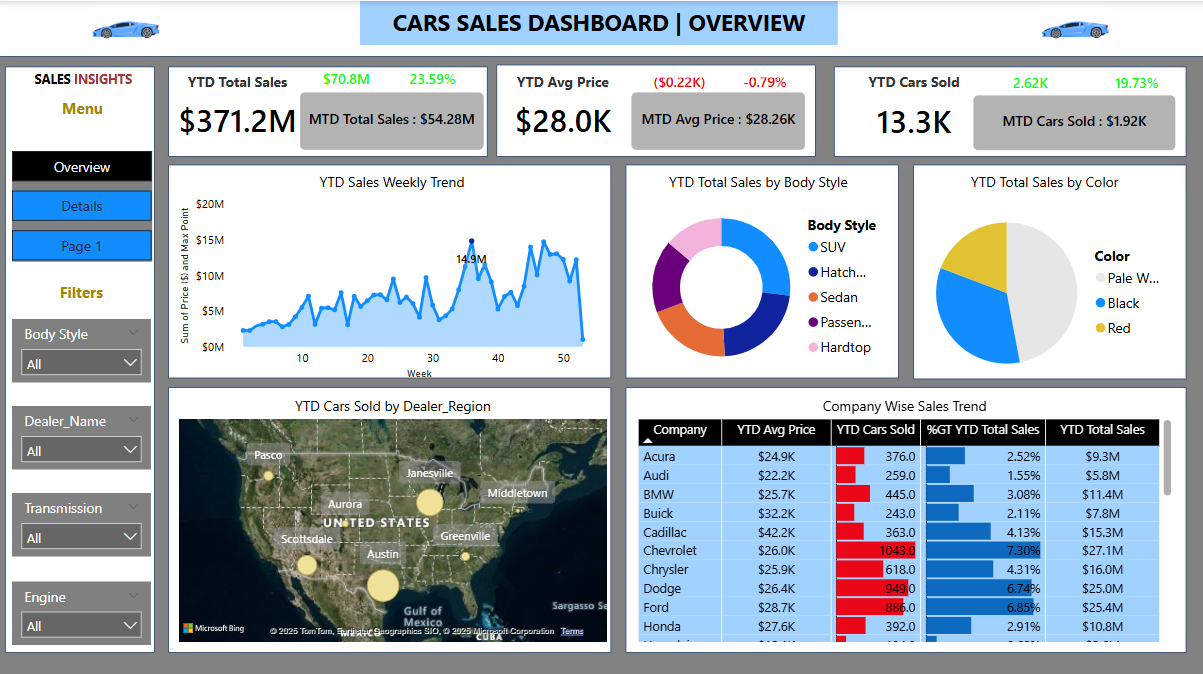

The dashboard page shown, as its layout file describes it:
{"tool":"powerbi","page":{"name":"Overview","canvas":[1280,720],"ordinal":0},"visuals":[{"type":"card","title":"YTD Total Sales","fields":{"Values":["car_data.YTD Total Sales"]},"box":[174.2,74.9,160,83],"z":0},{"type":"card","fields":{"Values":["car_data.Sales Difference"]},"box":[322,68.9,97.2,32.4],"z":1000},{"type":"card","fields":{"Values":["car_data.YOY Sales Growth"]},"box":[419.2,68.9,83,32.4],"z":2000},{"type":"card","fields":{"Values":["car_data.MTD KPI"]},"box":[322,97.2,194.4,60.8],"z":3000},{"type":"card","title":"YTD Avg Price","fields":{"Values":["car_data.YTD Avg Price"]},"box":[528.6,74.9,143.8,83],"z":4000},{"type":"card","fields":{"Values":["car_data.Avg Price Difference"]},"box":[680.5,72.9,85.1,24.3],"z":5000},{"type":"card","fields":{"Values":["car_data.YOY Avg Price Growth"]},"box":[771.6,72.9,85.1,24.3],"z":6000},{"type":"card","fields":{"Values":["car_data.MTD Avg Price KPI"]},"box":[672.4,97.2,184.3,60.8],"z":7000},{"type":"card","title":"YTD Cars Sold","fields":{"Values":["car_data.YTD Cars Sold"]},"box":[892,74,160,84],"z":8000},{"type":"card","fields":{"Values":["car_data.Cars Sold Difference"]},"box":[1052.7,74.5,84.5,25.5],"z":9000},{"type":"card","fields":{"Values":["car_data.YOY Cars Sold Growth"]},"box":[1165.5,74.5,84.5,25.5],"z":10000},{"type":"card","fields":{"Values":["car_data.MTD Cars Sold KPI"]},"box":[1036,100,214,58],"z":11000},{"type":"areaChart","title":"YTD Sales Weekly Trend","fields":{"Category":["Calendar Table.Week"],"Y":["Sum(car_data.Price ($))","car_data.Max Point"]},"box":[188,182,462,224],"z":12000},{"type":"donutChart","fields":{"Category":["car_data.Body Style"],"Y":["car_data.YTD Total Sales"]},"box":[672,182,272,224],"z":13000},{"type":"pieChart","fields":{"Y":["car_data.YTD Total Sales"],"Category":["car_data.Color"]},"box":[972,182,278,236],"z":14000},{"type":"map","fields":{"Size":["car_data.YTD Cars Sold"],"Category":["car_data.Dealer_Region"]},"box":[188,418,464,266],"z":15000},{"type":"tableEx","title":"Company Wise Sales Trend","fields":{"Values":["car_data.Company","car_data.YTD Avg Price","car_data.YTD Cars Sold","car_data.YTD Total Sales","car_data.YTD Total Sales1"]},"box":[674,418,576,266],"z":16000},{"type":"textbox","box":[385,0,506.7,46.7],"z":17000},{"type":"slicer","fields":{"Values":["car_data.Body Style"]},"box":[16.2,337.5,147.5,67.5],"z":18000},{"type":"slicer","fields":{"Values":["car_data.Dealer_Name"]},"box":[16.2,430,147.5,67.5],"z":19000},{"type":"slicer","fields":{"Values":["car_data.Transmission"]},"box":[16.2,521.2,147.5,67.5],"z":20000},{"type":"slicer","fields":{"Values":["car_data.Engine"]},"box":[16.2,615,147.5,67.5],"z":21000},{"type":"textbox","box":[15,292.5,150,36.2],"z":22000},{"type":"pageNavigator","box":[16.2,158.8,148.8,117.5],"z":23000},{"type":"textbox","box":[17.5,97.5,146.2,37.5],"z":24000},{"type":"textbox","box":[17.5,68.4,147.9,31.8],"z":25000},{"type":"image","box":[0,0,273.9,61.1],"z":26000},{"type":"image","box":[1006.1,0,273.9,61.1],"z":27000}]}

Visuals, with their boxes in screenshot pixels (x1, y1, x2, y2), scaled from the page's 1280x720 canvas onto the 1203x674 screenshot:
"YTD Total Sales" card: bbox=(164, 70, 314, 148)
card - car_data.Sales Difference: bbox=(303, 64, 394, 95)
card - car_data.YOY Sales Growth: bbox=(394, 64, 472, 95)
card - car_data.MTD KPI: bbox=(303, 91, 485, 148)
"YTD Avg Price" card: bbox=(497, 70, 632, 148)
card - car_data.Avg Price Difference: bbox=(640, 68, 720, 91)
card - car_data.YOY Avg Price Growth: bbox=(725, 68, 805, 91)
card - car_data.MTD Avg Price KPI: bbox=(632, 91, 805, 148)
"YTD Cars Sold" card: bbox=(838, 69, 989, 148)
card - car_data.Cars Sold Difference: bbox=(989, 70, 1069, 94)
card - car_data.YOY Cars Sold Growth: bbox=(1095, 70, 1175, 94)
card - car_data.MTD Cars Sold KPI: bbox=(974, 94, 1175, 148)
"YTD Sales Weekly Trend" areaChart: bbox=(177, 170, 611, 380)
donutChart - car_data.Body Style x car_data.YTD Total Sales: bbox=(632, 170, 887, 380)
pieChart - car_data.YTD Total Sales x car_data.Color: bbox=(914, 170, 1175, 391)
map - car_data.YTD Cars Sold x car_data.Dealer_Region: bbox=(177, 391, 613, 640)
"Company Wise Sales Trend" tableEx: bbox=(633, 391, 1175, 640)
textbox: bbox=(362, 0, 838, 44)
slicer - car_data.Body Style: bbox=(15, 316, 154, 379)
slicer - car_data.Dealer_Name: bbox=(15, 403, 154, 466)
slicer - car_data.Transmission: bbox=(15, 488, 154, 551)
slicer - car_data.Engine: bbox=(15, 576, 154, 639)
textbox: bbox=(14, 274, 155, 308)
pageNavigator: bbox=(15, 149, 155, 259)
textbox: bbox=(16, 91, 154, 126)
textbox: bbox=(16, 64, 155, 94)
image: bbox=(0, 0, 257, 57)
image: bbox=(946, 0, 1202, 57)
